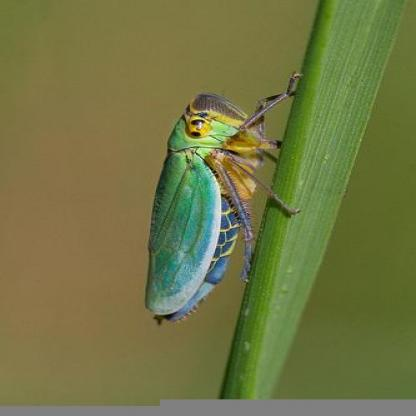Green-Leafhopper: (138, 70, 312, 333)
